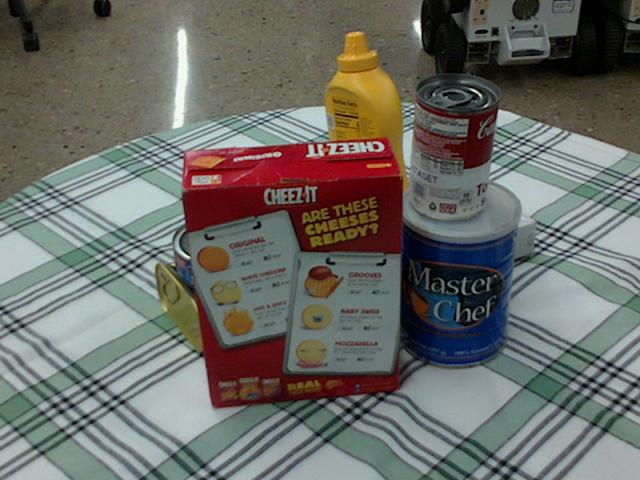cracker_box: (174, 137, 400, 405)
gelatin_box: (307, 177, 406, 248)
master_chef_can: (397, 174, 522, 367)
mug: (263, 212, 363, 329)
mustard_bottle: (324, 33, 411, 228)
potted_meat_can: (156, 243, 281, 351)
sugar_box: (348, 187, 535, 307)
tomato_soup_can: (409, 73, 498, 219)
tuna_fish_can: (172, 213, 265, 292)
